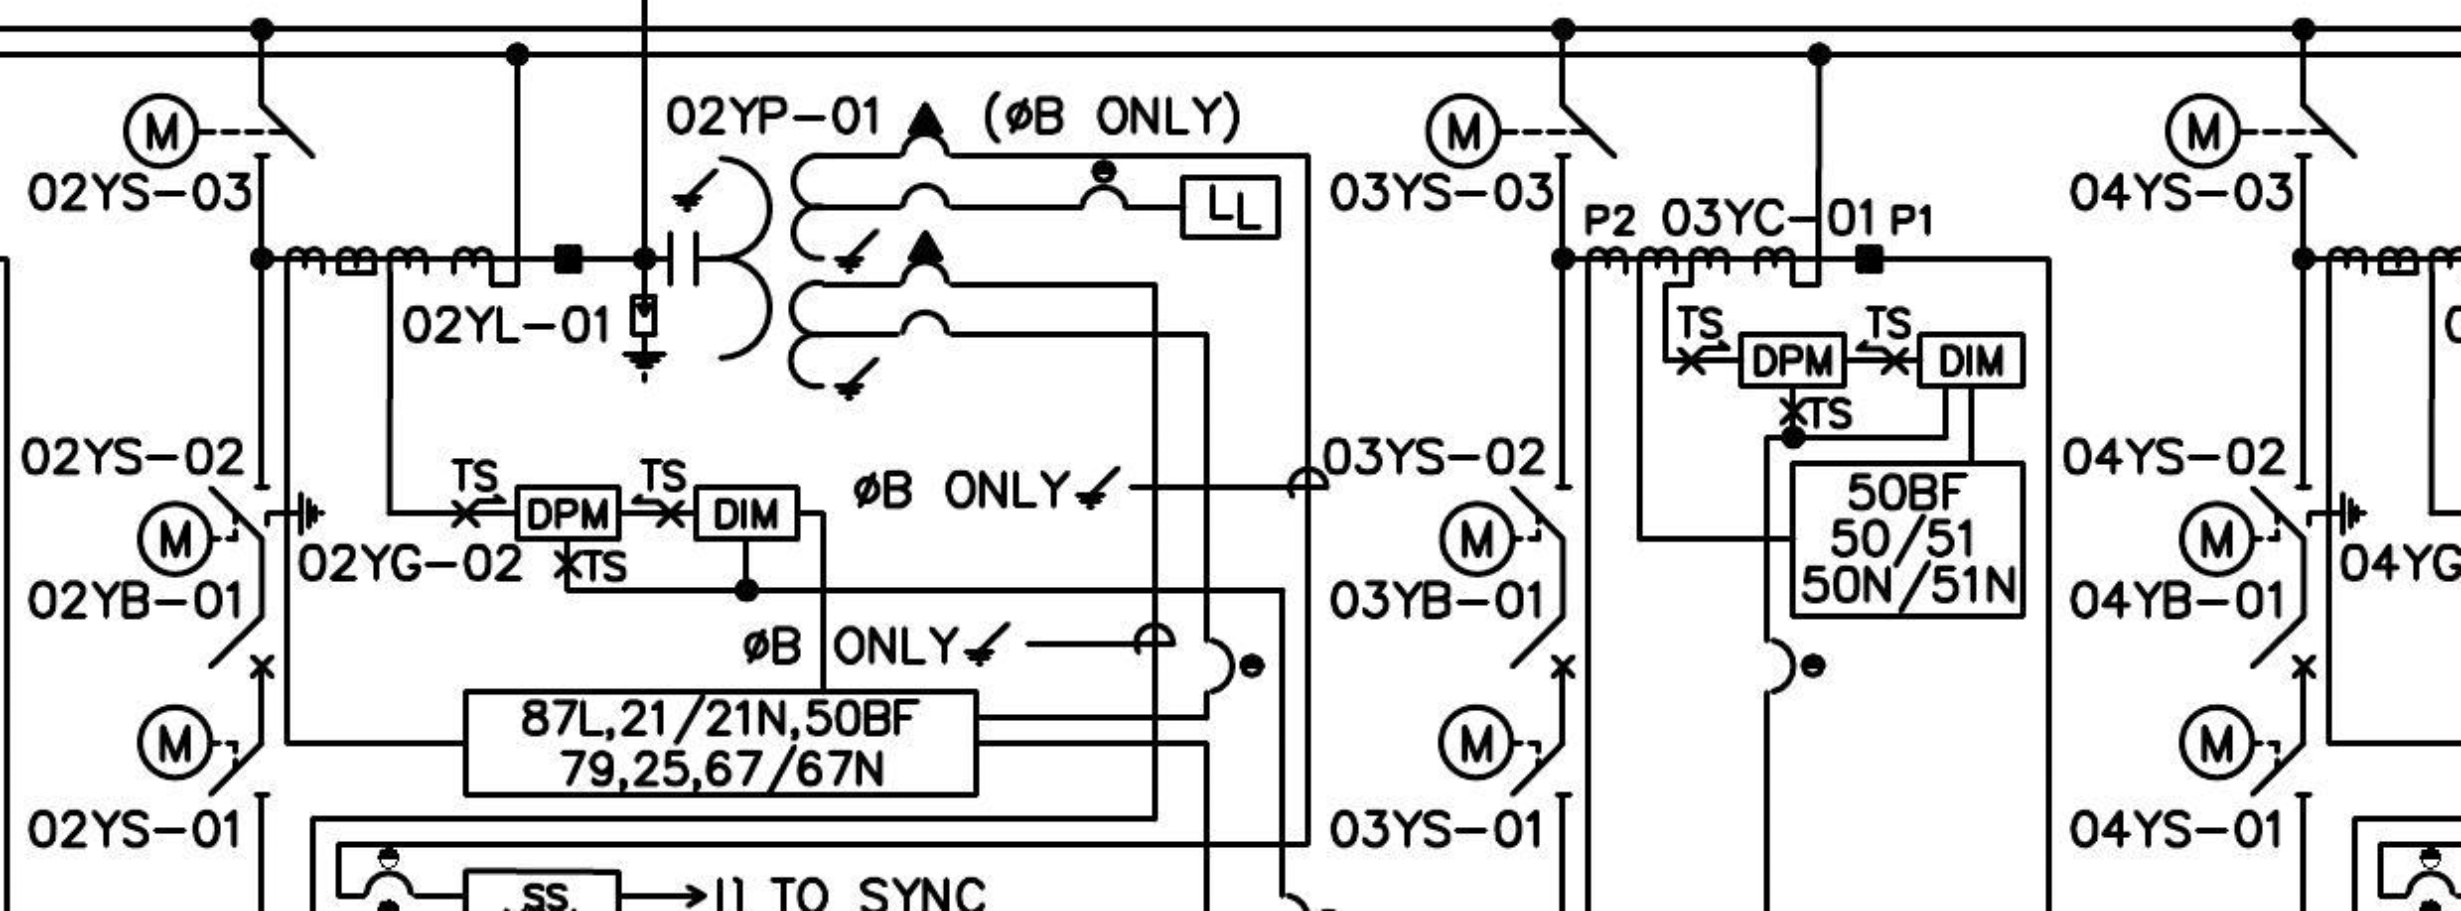115_1way_ds_w_motor: (121, 90, 317, 171), (1424, 90, 1620, 171), (2163, 91, 2359, 171), (1436, 484, 1574, 580), (1436, 702, 1574, 798), (135, 702, 272, 798), (2177, 704, 2313, 798)
115_3ways_ds_w_motor: (135, 484, 328, 580), (2177, 484, 2370, 580)
115_breaker: (1507, 614, 1577, 679), (207, 614, 275, 680), (2249, 614, 2317, 680)
115_cvt_1p: (665, 101, 954, 404)
115_la: (620, 292, 669, 385)
DIM: (1916, 330, 2028, 390), (692, 484, 800, 543)
DPM: (1737, 330, 1849, 390), (513, 484, 622, 542)
LL: (1179, 174, 1282, 240)
